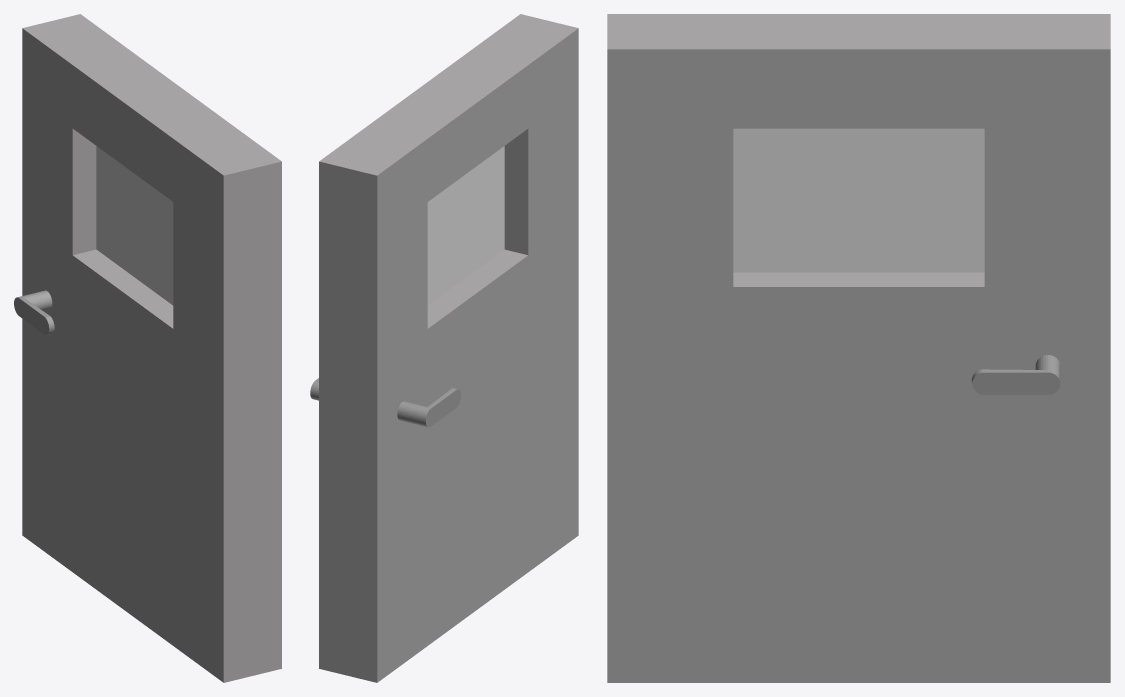
Rendered from DoorWindowCenterWhite.fbx.
The picture shows the model from 3 angles, left to right: view 1: azimuth 30°, elevation 25°; view 2: azimuth 150°, elevation 25°; view 3: azimuth 270°, elevation 25°; orthographic projection. The views are drawn at different scales.
Parts seen in each view (by area): view 1: DoorWindowCenterWhite, Window, Cylinder.001; view 2: DoorWindowCenterWhite, Window, Cylinder.001; view 3: DoorWindowCenterWhite, Window, Cylinder.
Boxes of the visible parts, left/top/right/bottom form: DoorWindowCenterWhite: left=22, top=14, right=281, bottom=682; Window: left=96, top=146, right=173, bottom=305; Cylinder.001: left=14, top=290, right=54, bottom=335; DoorWindowCenterWhite: left=319, top=14, right=578, bottom=682; Window: left=427, top=146, right=504, bottom=305; Cylinder.001: left=397, top=388, right=460, bottom=427; DoorWindowCenterWhite: left=607, top=14, right=1110, bottom=682; Window: left=733, top=128, right=984, bottom=272; Cylinder: left=971, top=355, right=1060, bottom=394.
Bounding box in the file's own units: 119 × 500 × 360.
